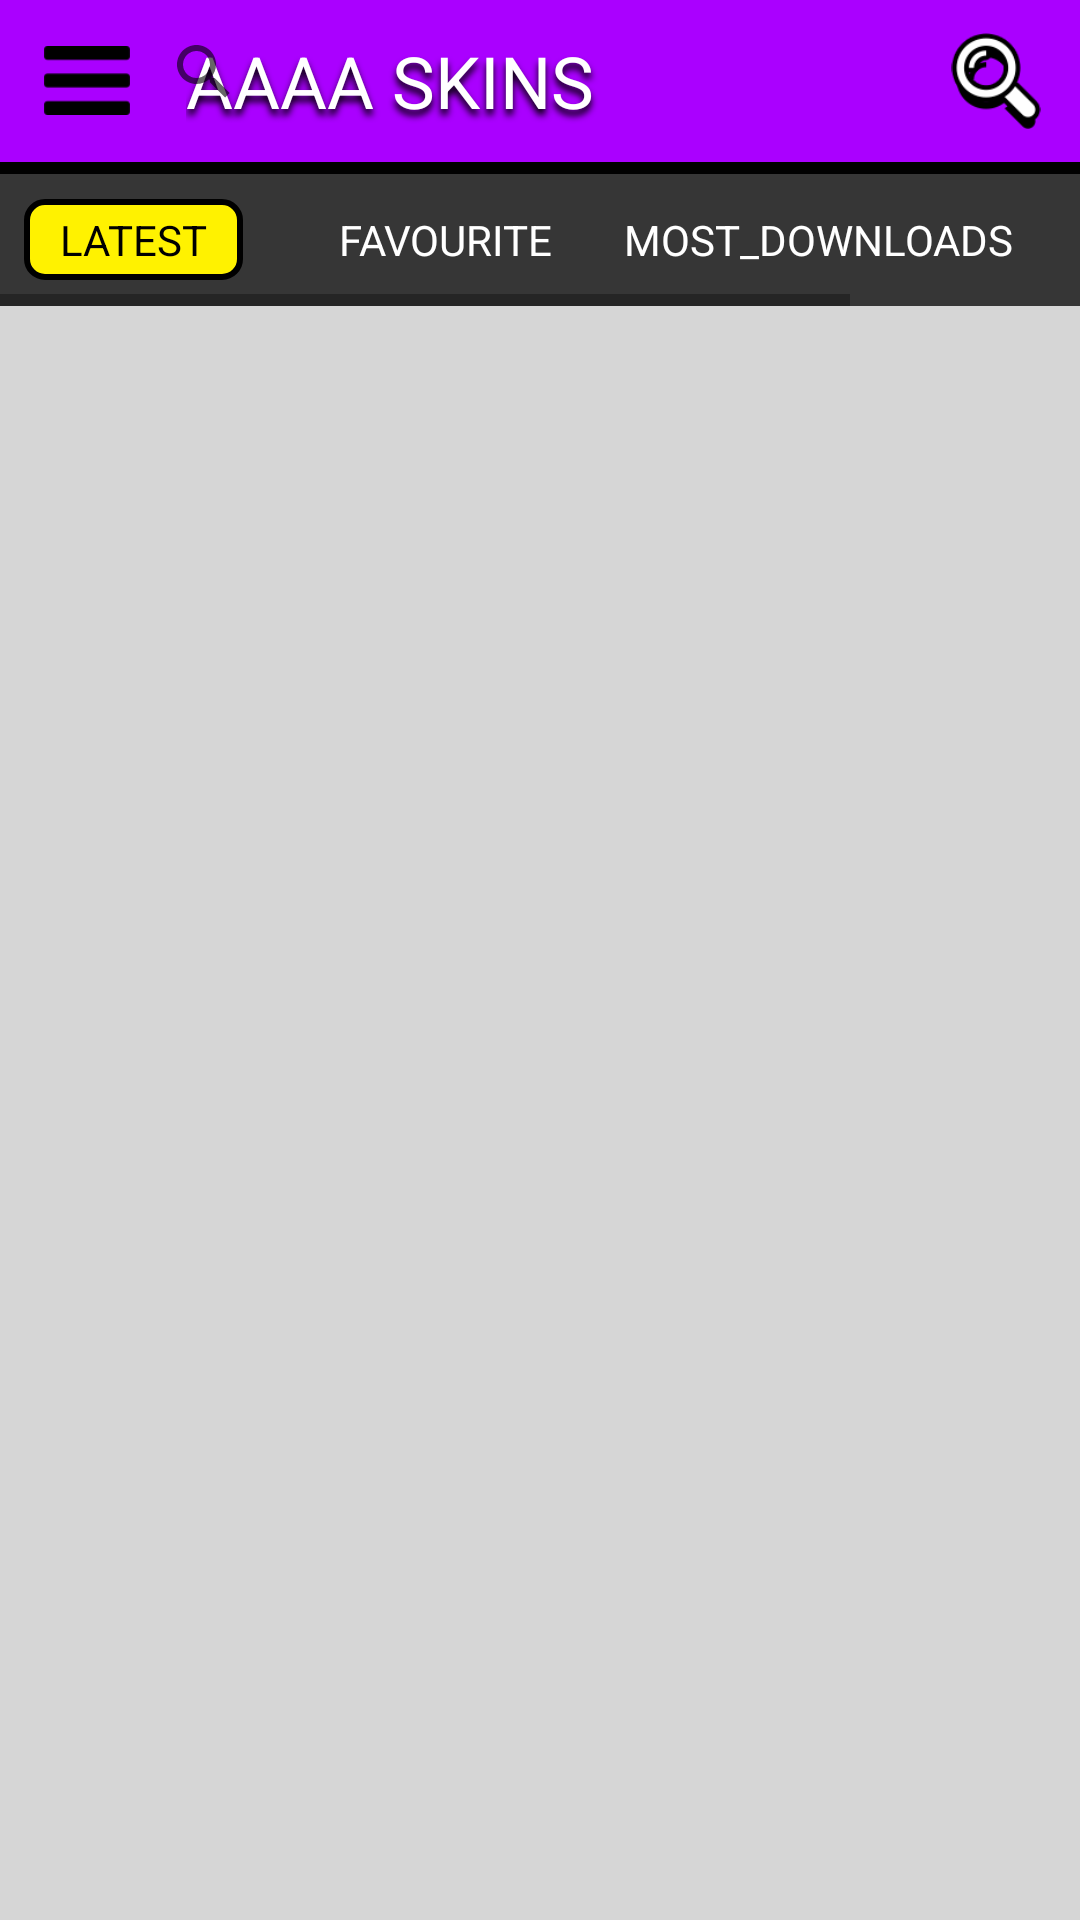

Screen size 1080×1920. Icon name, then its center in pixels as point (x, y):
menu: point (87, 80)
search: point (996, 81)
